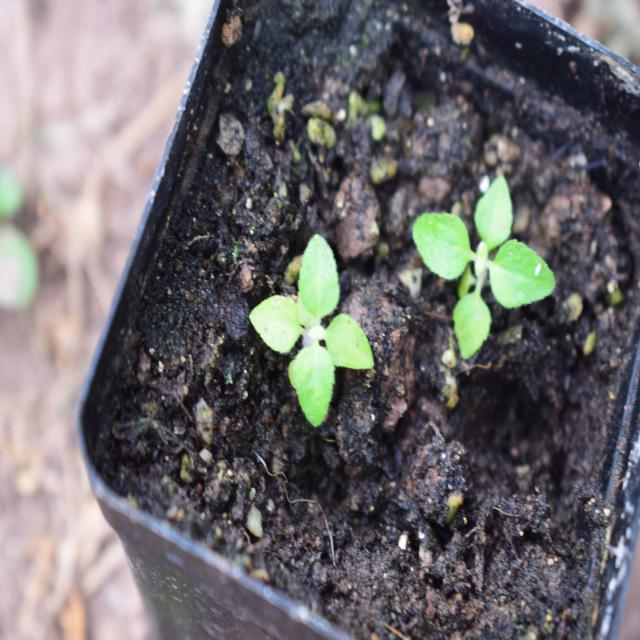billygoat_weed: (246, 218, 380, 433), (414, 177, 559, 366)
